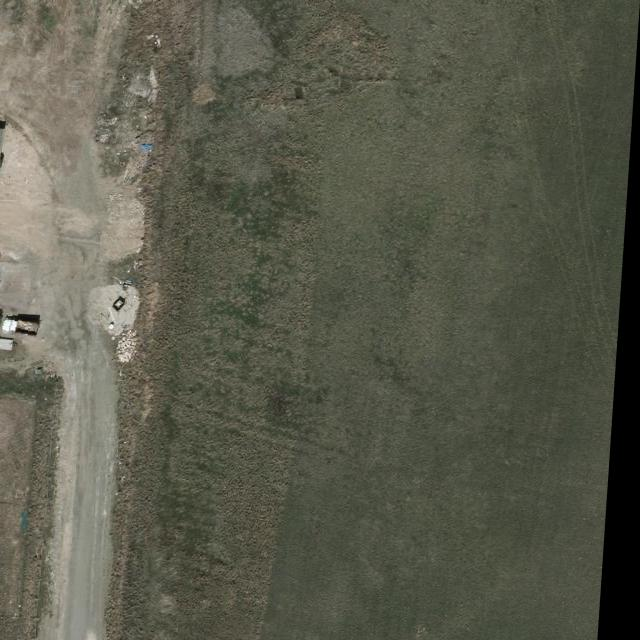vehicle: (5, 317, 46, 337)
